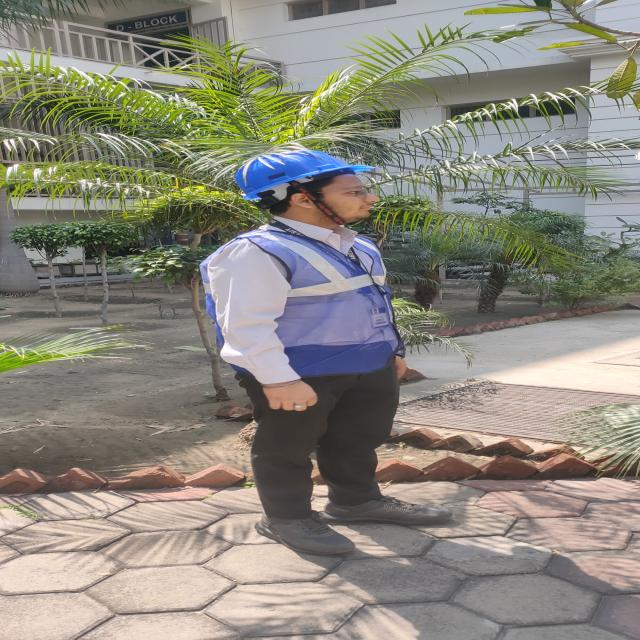safe: (202, 150, 451, 554)
